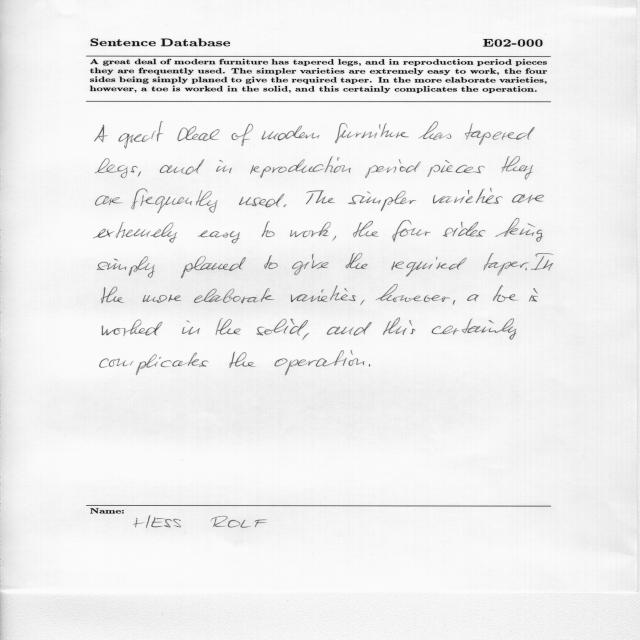word: (100, 353, 208, 375), (275, 351, 365, 376), (250, 156, 351, 178), (131, 189, 218, 214), (432, 318, 516, 340), (94, 222, 177, 243), (465, 123, 535, 145), (335, 123, 409, 143), (181, 256, 246, 278), (348, 191, 416, 211), (376, 284, 450, 302), (194, 288, 274, 304), (97, 256, 155, 278), (118, 121, 163, 149), (495, 218, 543, 242), (433, 188, 503, 204), (291, 285, 356, 302), (365, 159, 421, 178), (484, 253, 530, 276), (103, 320, 163, 337), (427, 160, 485, 177), (392, 257, 438, 277), (257, 319, 309, 336), (262, 126, 320, 141), (95, 158, 138, 178), (392, 220, 431, 242), (292, 254, 329, 275), (501, 157, 533, 180), (160, 159, 205, 175), (177, 126, 220, 141), (443, 222, 486, 237), (239, 194, 285, 208), (327, 322, 372, 336), (419, 121, 452, 140), (290, 222, 331, 237), (197, 231, 240, 244), (383, 318, 415, 335), (526, 253, 554, 271), (231, 124, 253, 146), (493, 285, 518, 302), (216, 318, 241, 335), (230, 352, 256, 368), (306, 190, 335, 204), (353, 221, 378, 237), (102, 287, 125, 304), (437, 257, 467, 270), (346, 253, 368, 269), (143, 294, 182, 303), (96, 195, 123, 206), (512, 194, 544, 203), (182, 320, 200, 335), (94, 125, 108, 142), (216, 160, 232, 173), (262, 221, 275, 237), (264, 255, 278, 269), (529, 288, 538, 302), (467, 295, 479, 302), (303, 333, 310, 340), (360, 300, 365, 305), (332, 236, 336, 241), (138, 171, 141, 177), (453, 300, 455, 305), (284, 205, 287, 208), (369, 364, 370, 367)
